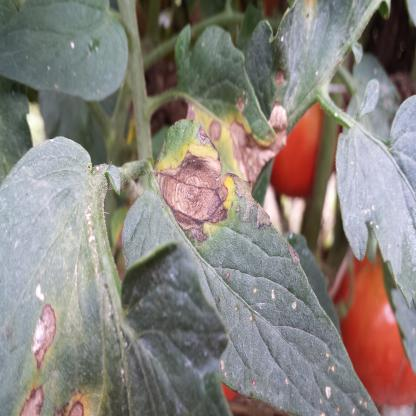Potato leaf early blight: (121, 113, 388, 416), (0, 144, 123, 402), (248, 0, 390, 137)
